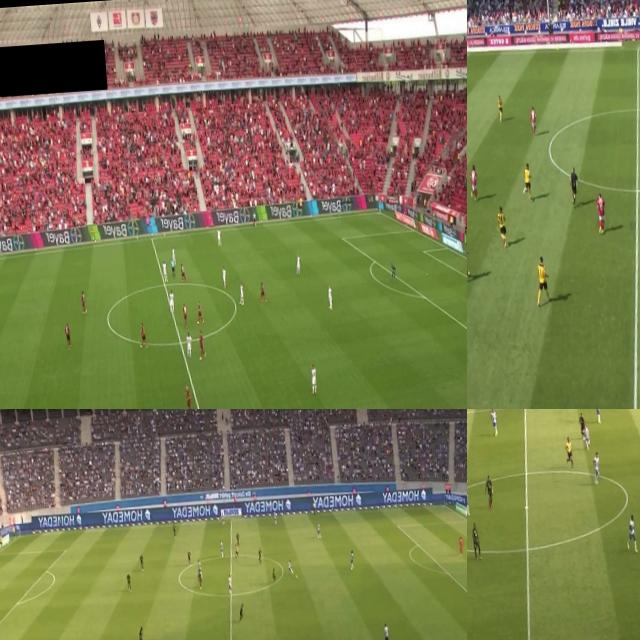ball: (294, 572, 299, 580)
player: (531, 255, 549, 312), (592, 194, 606, 235), (624, 514, 638, 555), (520, 164, 533, 206), (470, 521, 483, 562), (482, 472, 495, 511), (496, 206, 506, 248), (469, 164, 478, 198), (592, 448, 600, 482), (325, 281, 334, 311), (197, 328, 206, 358), (489, 409, 498, 437), (526, 108, 536, 132), (183, 386, 193, 409), (576, 413, 585, 438), (63, 321, 71, 348), (309, 365, 316, 395), (138, 322, 146, 348), (496, 94, 504, 120), (382, 620, 392, 640), (194, 300, 203, 322), (184, 332, 192, 356), (456, 534, 464, 558), (80, 288, 87, 314), (258, 282, 266, 304), (160, 260, 168, 282), (348, 548, 356, 570), (220, 265, 227, 289), (582, 424, 589, 448), (168, 290, 175, 313), (467, 477, 471, 517), (182, 301, 188, 327), (238, 282, 245, 304), (170, 245, 177, 267), (226, 574, 232, 598), (215, 227, 222, 247), (237, 602, 244, 622), (255, 546, 262, 566), (135, 625, 144, 640), (196, 558, 202, 580), (220, 537, 226, 559), (287, 558, 294, 576), (294, 253, 300, 273), (138, 553, 144, 573), (179, 262, 185, 281), (316, 520, 321, 542), (390, 260, 396, 278), (272, 510, 278, 526), (197, 571, 202, 590), (171, 522, 176, 540), (126, 572, 130, 594), (593, 409, 601, 420), (186, 550, 191, 566), (272, 566, 276, 584), (235, 532, 240, 546)
